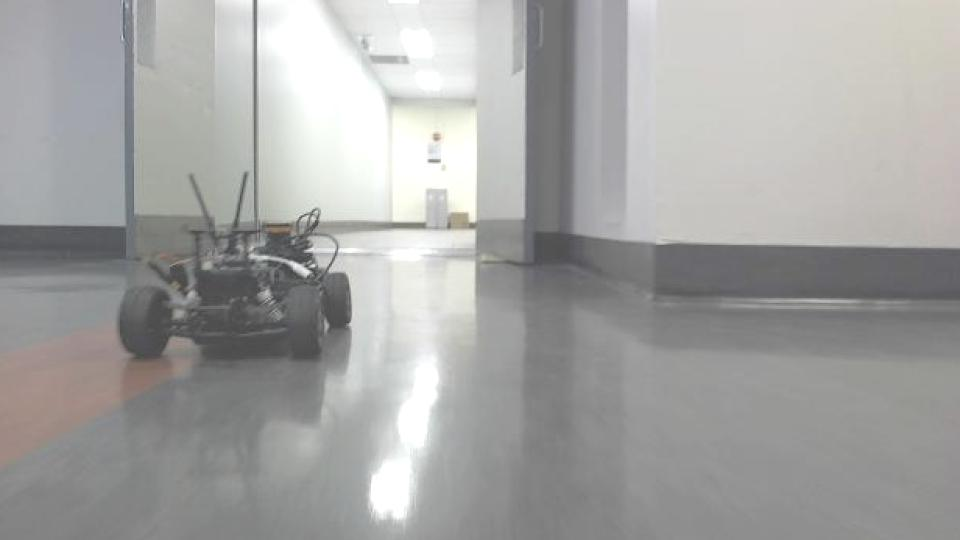car: (112, 169, 356, 362)
